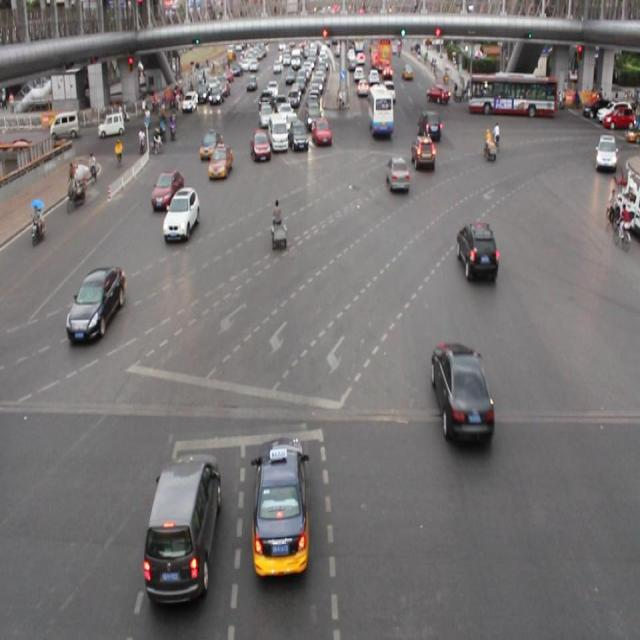BigCar: (468, 62, 564, 131), (366, 80, 403, 144), (370, 32, 396, 75)
car: (408, 300, 507, 467), (140, 449, 230, 603), (233, 438, 326, 580), (67, 244, 132, 352), (452, 220, 499, 293), (168, 178, 202, 248), (386, 136, 420, 203), (405, 109, 439, 172), (143, 170, 181, 208), (178, 94, 213, 134), (207, 149, 237, 195), (308, 104, 338, 150), (268, 111, 292, 159), (194, 128, 227, 162), (418, 95, 441, 140), (430, 70, 454, 110), (288, 110, 308, 157), (254, 125, 272, 163)
